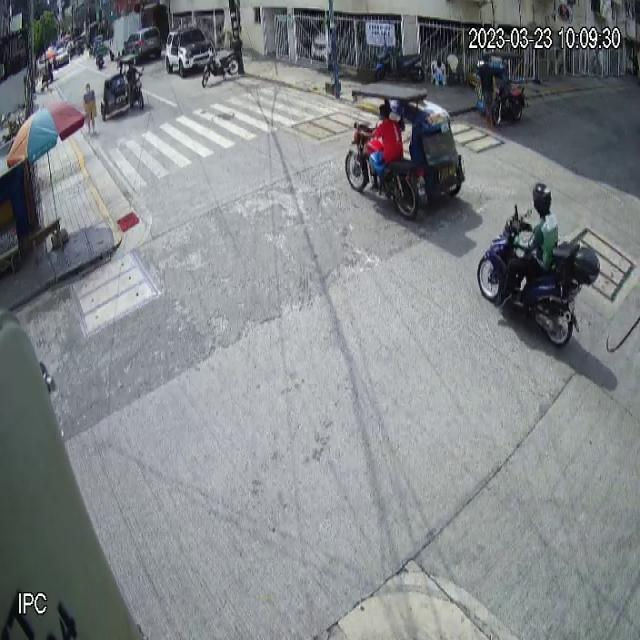Motorcycle: (476, 202, 600, 348)
Tricycle: (345, 82, 465, 220), (101, 54, 144, 122)
